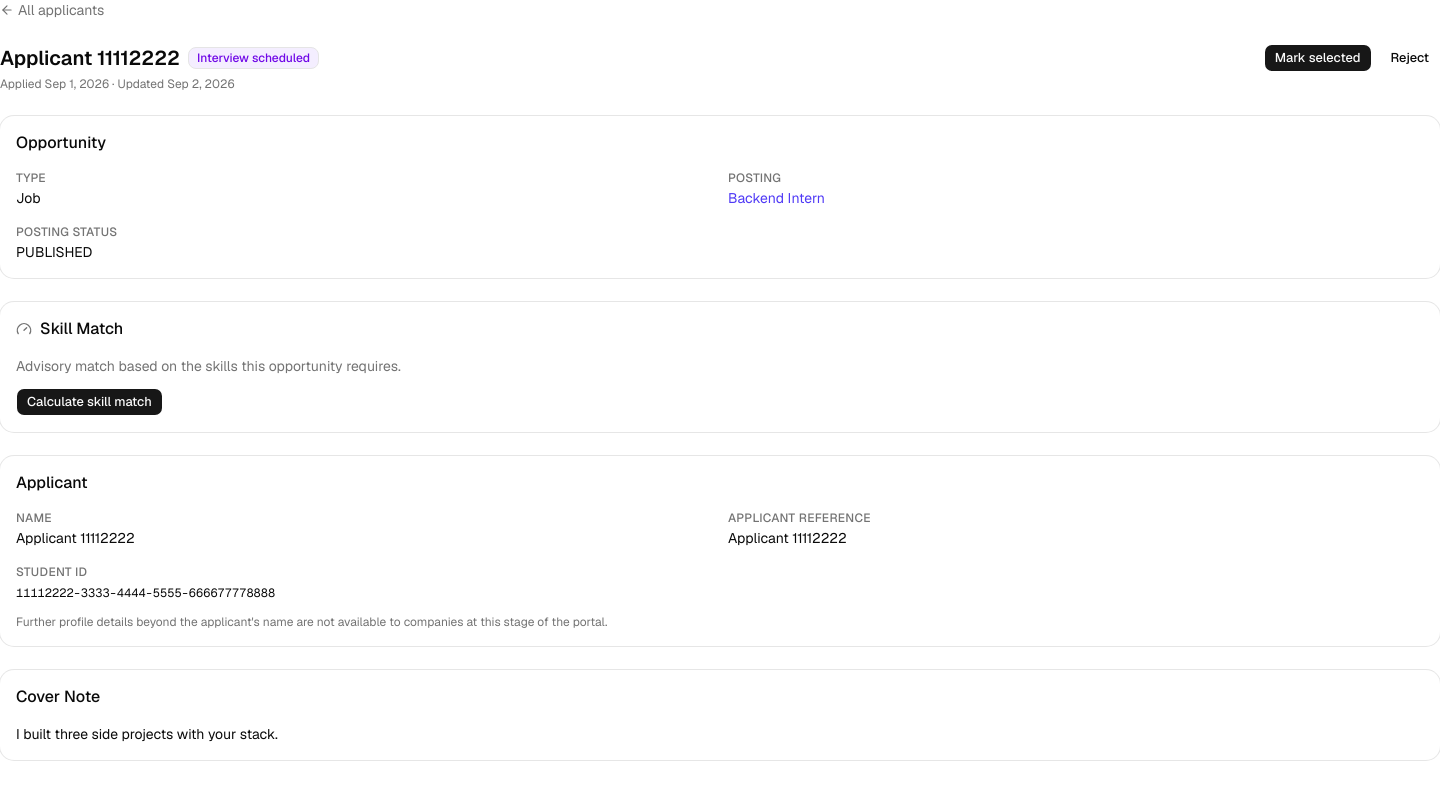
it: ApplicationDetailView › shows the job-training-not-published provisioning message without a link
Expected: the heading "Applicant 11112222" is shown, top-left (0, 44), bottom-right (180, 72)
Click the button "Mark selected": (1318, 58) top-left (1264, 44), bottom-right (1372, 72)
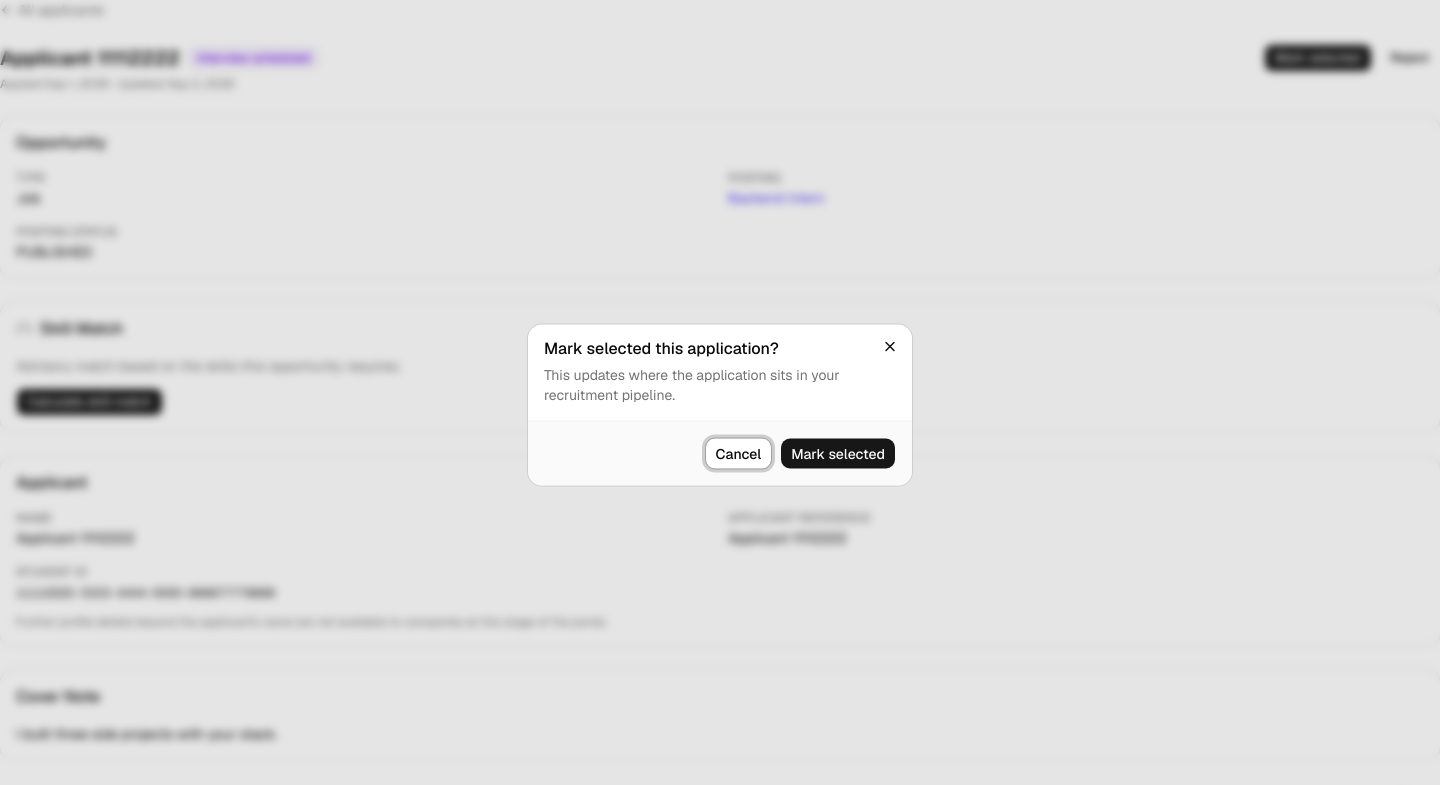
Click the button "Mark selected": (838, 454) top-left (780, 438), bottom-right (896, 470)
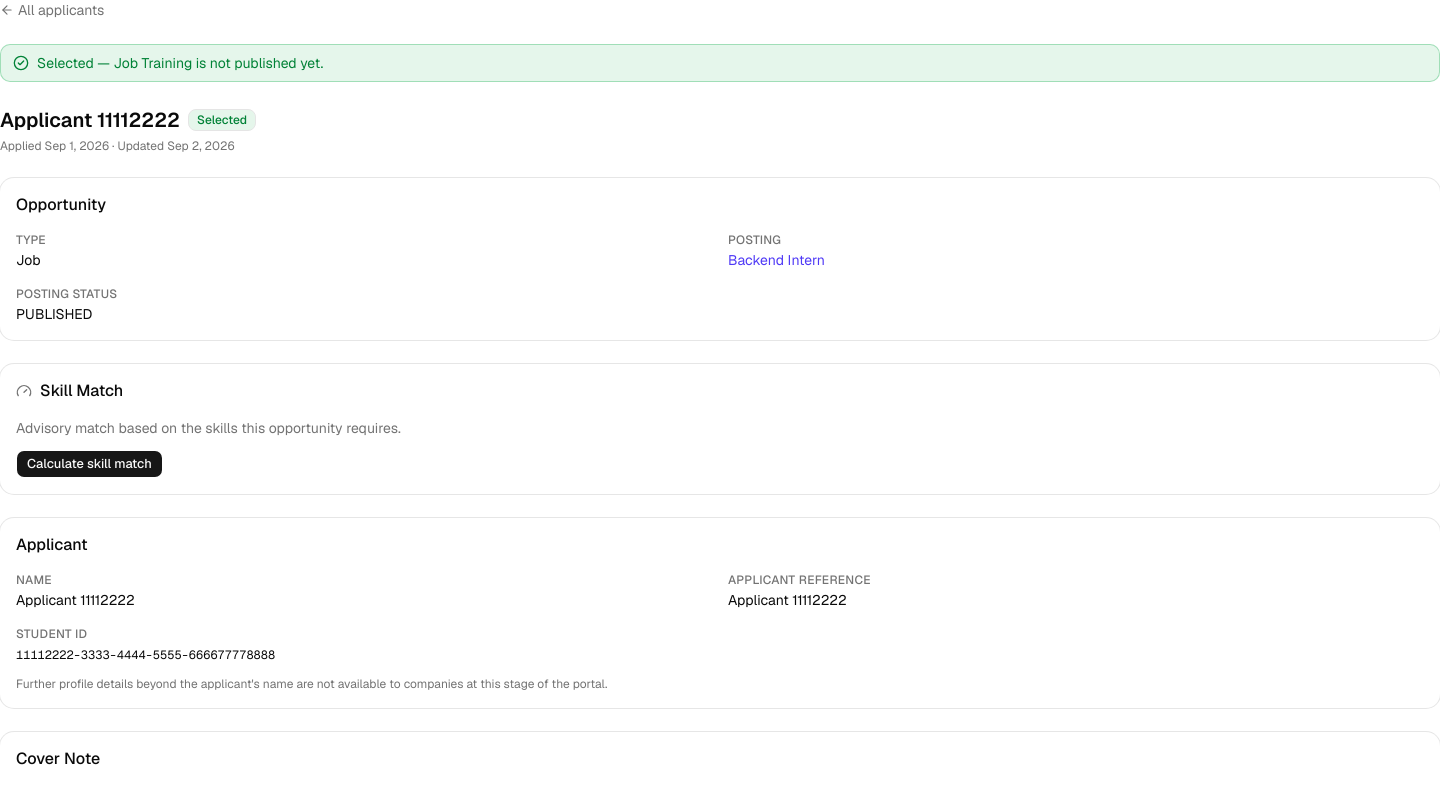
Expected: the text "Selected — Job Training is not published yet." is shown, top-left (37, 53), bottom-right (323, 73)
